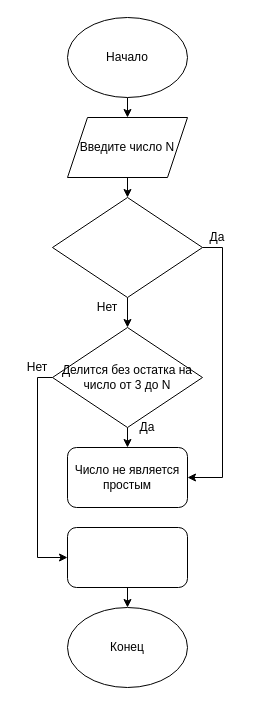
This 254x705 diagram has some shape labels left out. The centre of each missing label's shape, as x and y in pixels:
"N больше 2 и делится на 2 без остатка" belongs at point 127,247.
"Число является простым" belongs at point 127,557.
